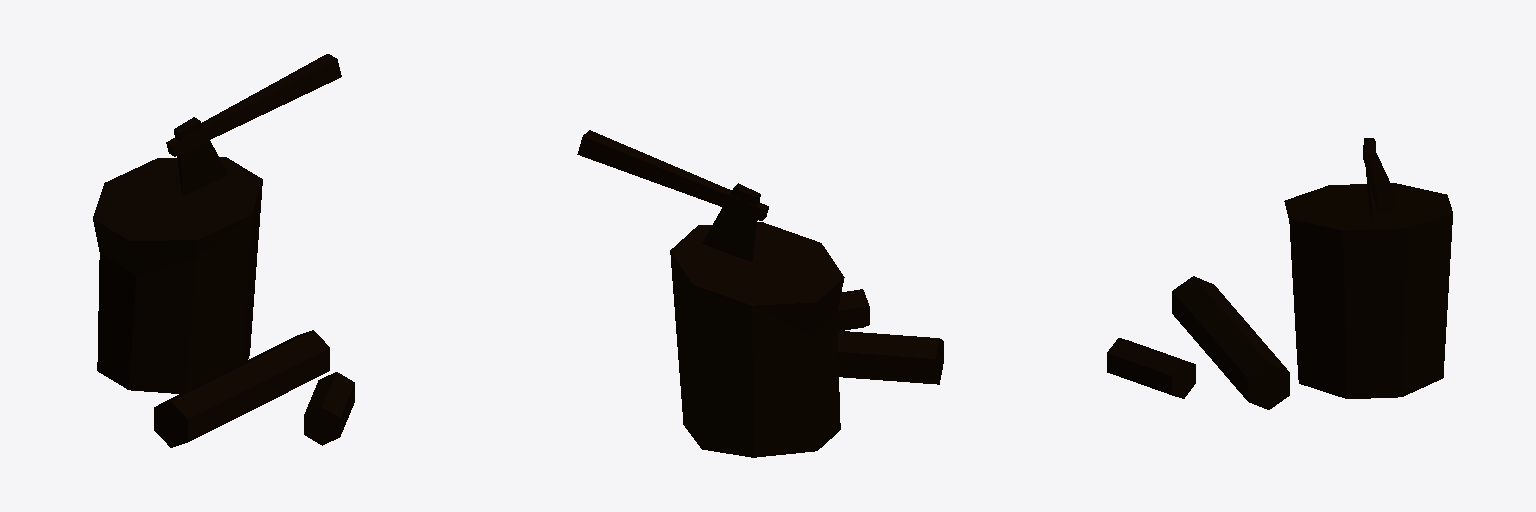
Rendered from log_002.obj.
3 renders of one model, left to right at view 1: azimuth 30°, elevation 25°; view 2: azimuth 150°, elevation 25°; view 3: azimuth 270°, elevation 25°, orthographic.
Parts seen in each view (by area): view 1: log_002; view 2: log_002; view 3: log_002.
Boxes of the visible parts, <box> form: log_002: <box>93,54,354,447</box>; log_002: <box>577,130,943,457</box>; log_002: <box>1107,138,1452,409</box>.
Size of the model in its own units: 0.8043 by 0.7398 by 0.8941.